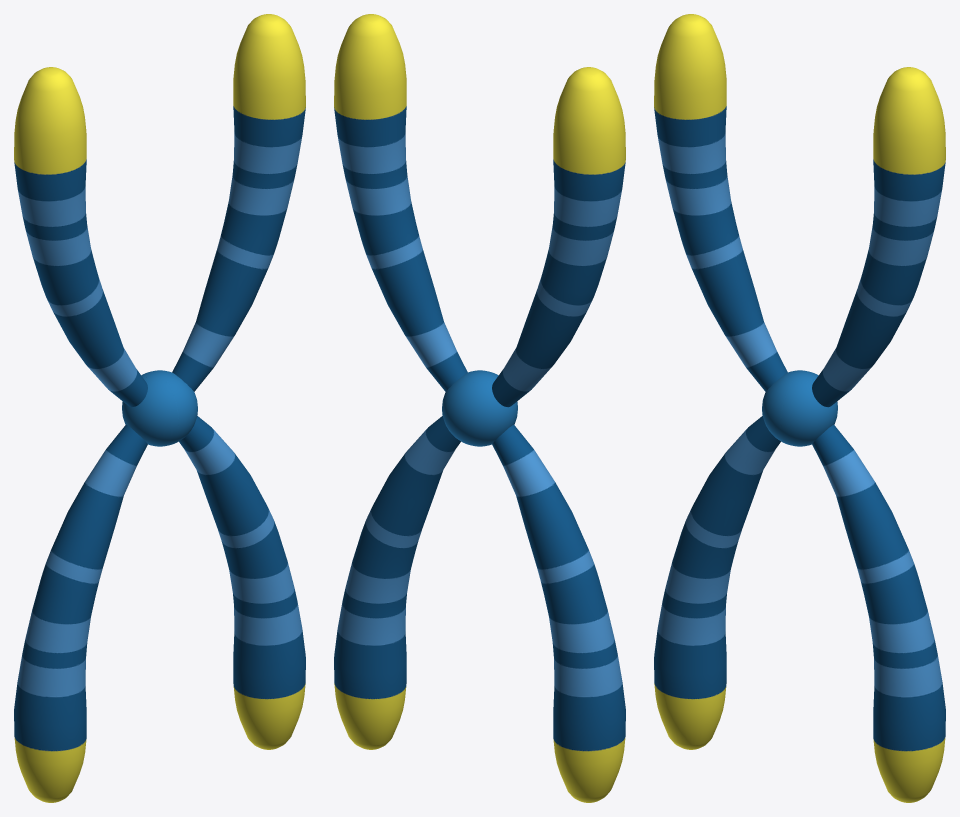
Rendered from chromosomesx.glb.
3 renders of one model, left to right at view 1: azimuth 30°, elevation 25°; view 2: azimuth 150°, elevation 25°; view 3: azimuth 330°, elevation 25°, orthographic.
Parts seen in each view (by area): view 1: CromossomaX; view 2: CromossomaX; view 3: CromossomaX.
Part boxes in pixels (x1,y1,x2,y2): CromossomaX: (14, 14, 305, 802); CromossomaX: (334, 14, 625, 802); CromossomaX: (654, 14, 945, 802).
Bounding box in the file's own units: 76.94 × 190 × 18.02.
1 material, 1 textured.
